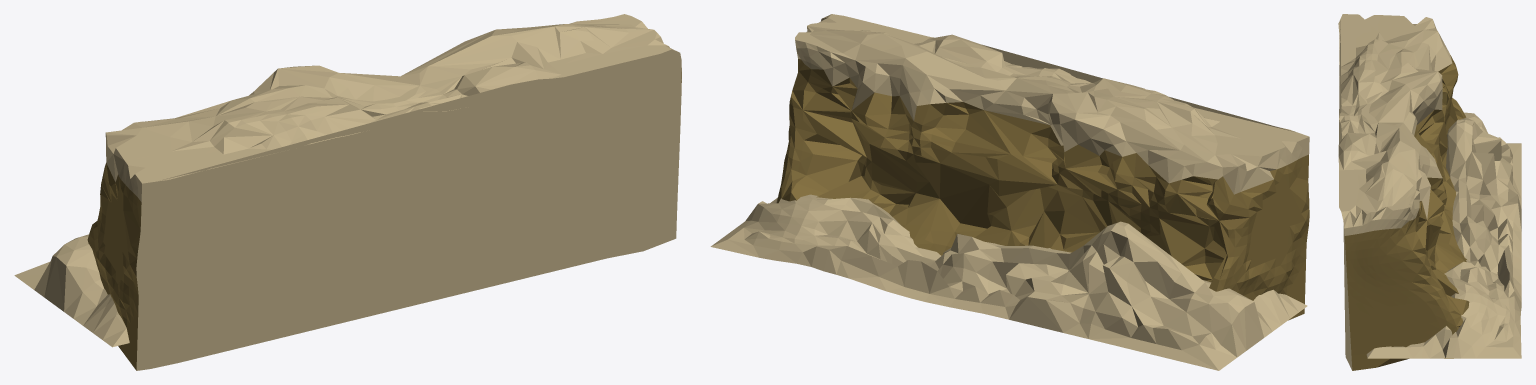
Rendered from Big Rock.fbx.
3 views of the same model, side by side, from view 1: azimuth 30°, elevation 25°; view 2: azimuth 150°, elevation 25°; view 3: azimuth 270°, elevation 25° (orthographic). The views are drawn at different scales.
Parts seen in each view (by area): view 1: polySurface2; view 2: polySurface2; view 3: polySurface2.
Boxes of the visible parts, left/top/right/bottom form: polySurface2: left=14, top=14, right=681, bottom=370; polySurface2: left=710, top=14, right=1309, bottom=370; polySurface2: left=1338, top=14, right=1521, bottom=370.
Bounding box in the file's own units: 116 × 43.42 × 41.83.
